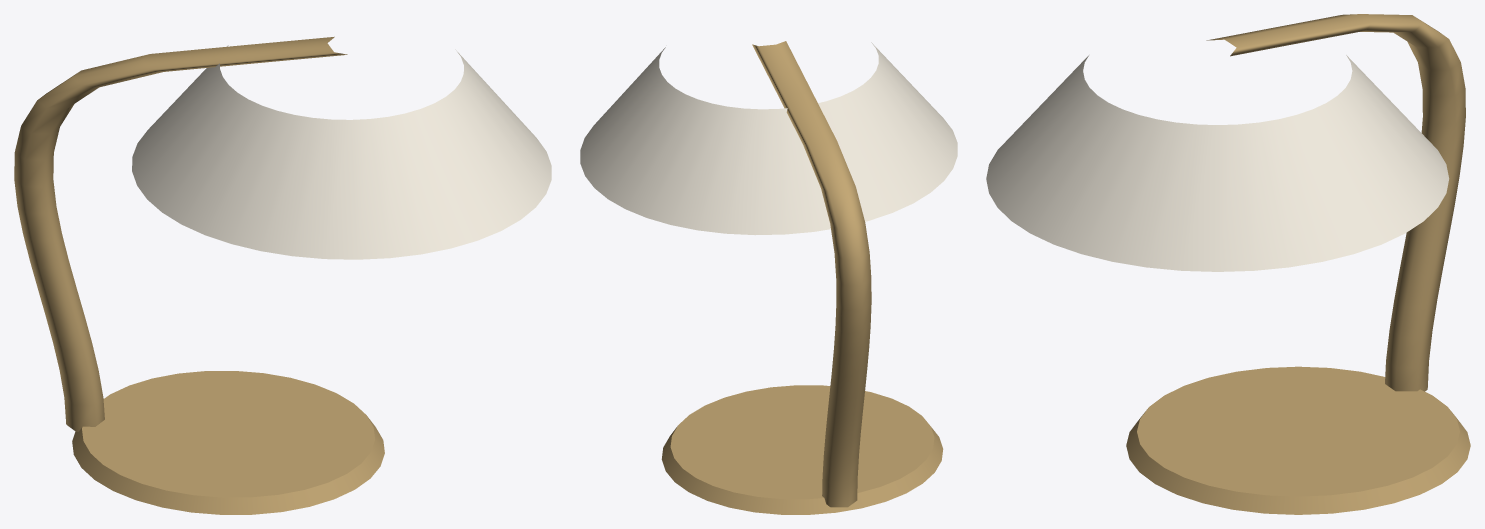
File: lamp-16-0.glb
The picture shows the model from 3 angles, left to right: view 1: azimuth 30°, elevation 25°; view 2: azimuth 150°, elevation 25°; view 3: azimuth 270°, elevation 25°; orthographic projection. The views are drawn at different scales.
Visible parts, largest first — view 1: part (×2); view 2: part (×2); view 3: part (×2).
Part boxes in pixels (x1,y1,x2,y2): part (×2): (14, 36, 551, 514); part (×2): (580, 41, 957, 514); part (×2): (986, 14, 1470, 514).
Size of the model in its own units: 0.9999 by 1 by 1.
